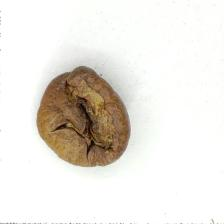NG: (49, 72, 115, 155)
